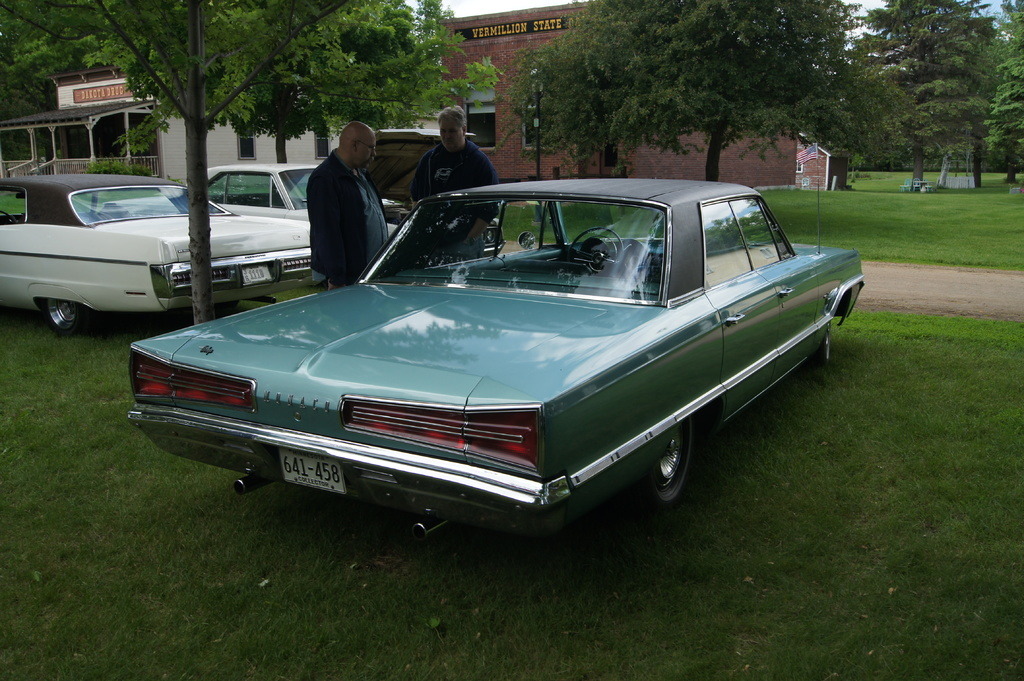cars: (139, 193, 868, 540), (0, 171, 316, 333), (188, 128, 509, 255)
